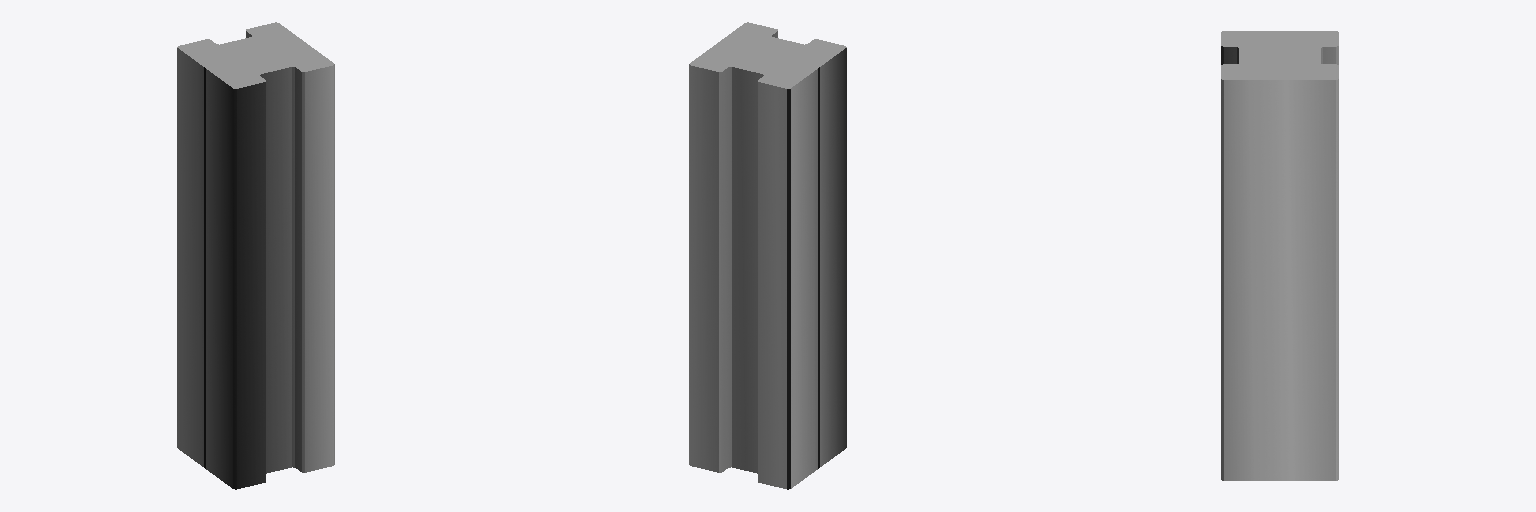
3 views of the same model, side by side, from view 1: azimuth 30°, elevation 25°; view 2: azimuth 150°, elevation 25°; view 3: azimuth 270°, elevation 25° (orthographic).
Visible parts, largest first — view 1: building_03a_GEO_Cube.016; view 2: building_03a_GEO_Cube.016; view 3: building_03a_GEO_Cube.016.
Part boxes in pixels (x1,y1,x2,y2): building_03a_GEO_Cube.016: (177, 22, 334, 489); building_03a_GEO_Cube.016: (689, 22, 846, 489); building_03a_GEO_Cube.016: (1221, 31, 1338, 480).
Bounding box in the file's own units: 0.6342 × 2.39 × 0.6342.
1 materials, 1 textured.